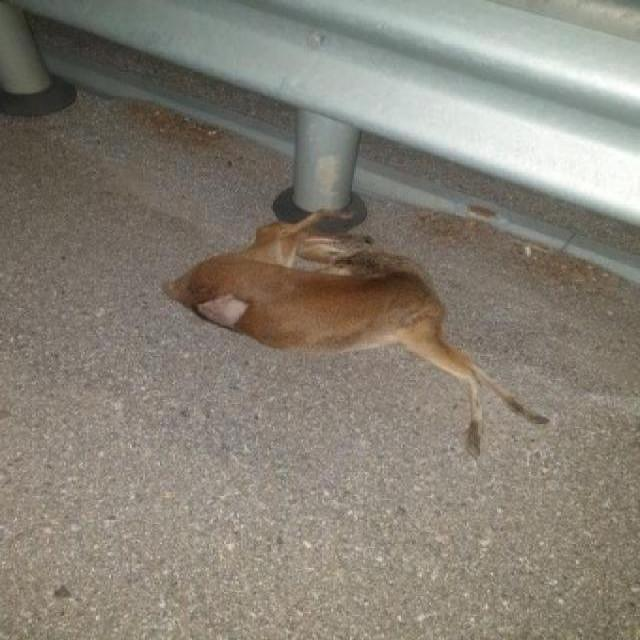deer: (134, 211, 586, 472)
